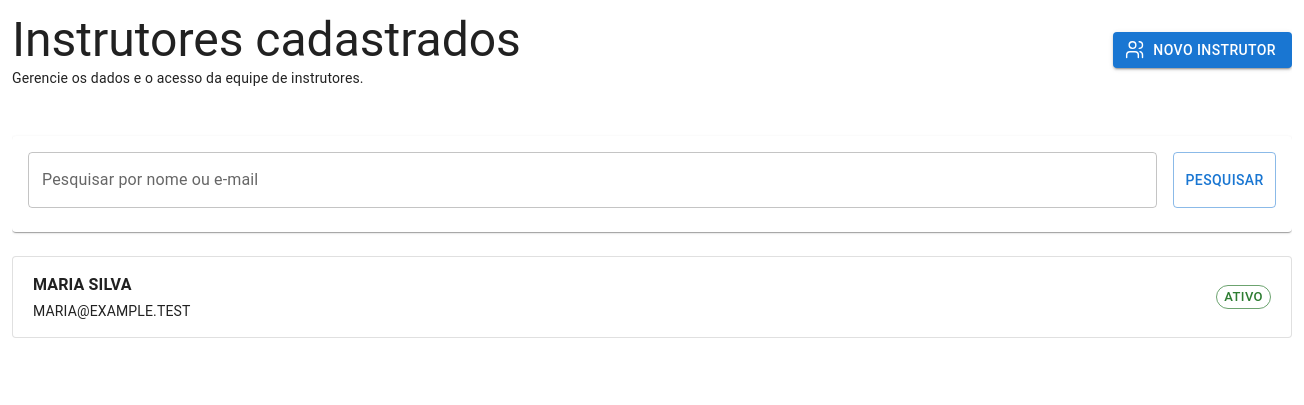
employee not found feedback is not confused with CEP lookup
Click the button "Maria Silva maria@example.test Ativo" at (82, 285), box [13,257,1291,337]
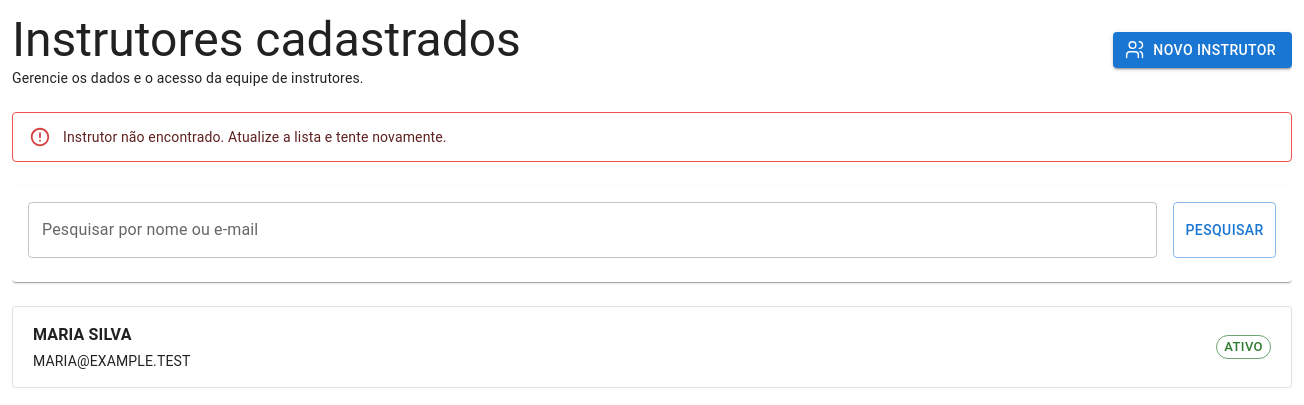
Expected: the text "Instrutor não encontrado. Atualize a lista e tente novamente." is shown, [63,129,447,145]
